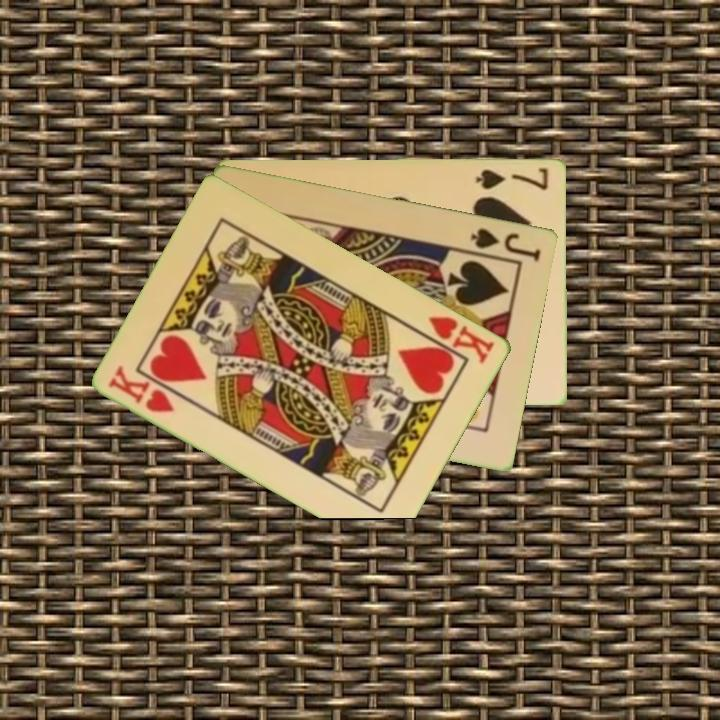7s: (473, 163, 552, 192)
Js: (467, 224, 544, 264)
Kh: (415, 312, 498, 367), (105, 361, 178, 416)
